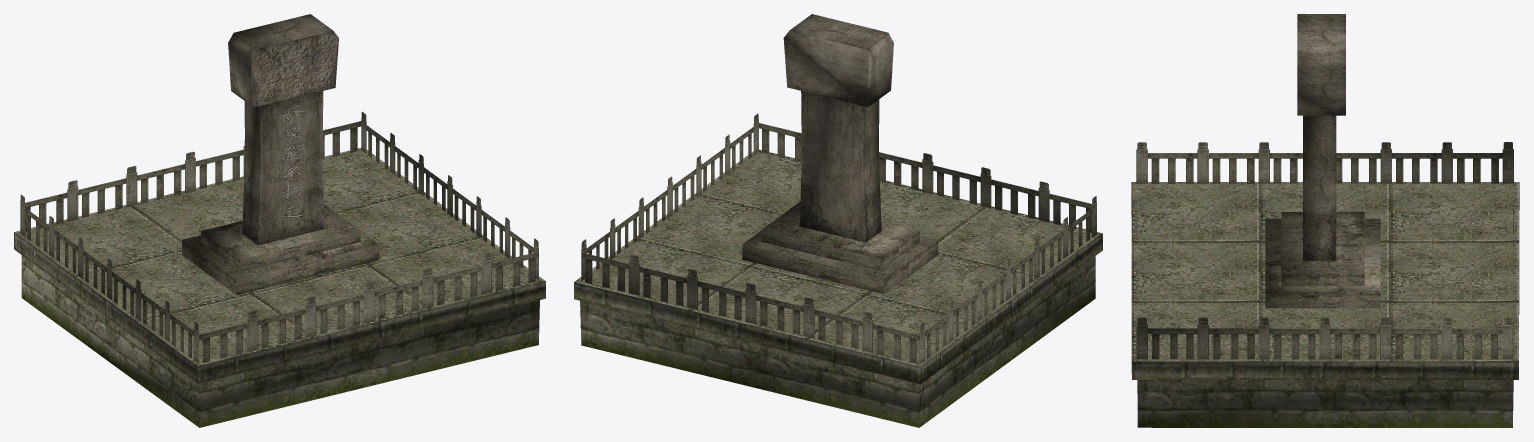
Rendered from cj_grave_tombstone01_01.glb.
3 renders of one model, left to right at view 1: azimuth 30°, elevation 25°; view 2: azimuth 150°, elevation 25°; view 3: azimuth 270°, elevation 25°, orthographic. The views are drawn at different scales.
Parts seen in each view (by area): view 1: cj_grave_tombstone01_06, cj_grave_tombstone01_05, cj_grave_tombstone01_04, cj_grave_tombstone01_02, cj_grave_tombstone01_03, cj_grave_tombstone01_01; view 2: cj_grave_tombstone01_06, cj_grave_tombstone01_05, cj_grave_tombstone01_04, cj_grave_tombstone01_02, cj_grave_tombstone01_03; view 3: cj_grave_tombstone01_06, cj_grave_tombstone01_05, cj_grave_tombstone01_04, cj_grave_tombstone01_02, cj_grave_tombstone01_03.
Boxes of the visible parts, x1,y1,x2,y2 form: cj_grave_tombstone01_06: [14, 148, 545, 366]; cj_grave_tombstone01_05: [14, 232, 545, 427]; cj_grave_tombstone01_04: [20, 111, 538, 363]; cj_grave_tombstone01_02: [228, 14, 332, 245]; cj_grave_tombstone01_03: [182, 204, 379, 294]; cj_grave_tombstone01_01: [251, 31, 338, 107]; cj_grave_tombstone01_06: [574, 149, 1102, 366]; cj_grave_tombstone01_05: [574, 233, 1102, 427]; cj_grave_tombstone01_04: [581, 113, 1096, 363]; cj_grave_tombstone01_02: [783, 14, 893, 242]; cj_grave_tombstone01_03: [742, 202, 938, 294]; cj_grave_tombstone01_06: [1131, 182, 1519, 361]; cj_grave_tombstone01_05: [1131, 192, 1519, 427]; cj_grave_tombstone01_04: [1136, 142, 1513, 359]; cj_grave_tombstone01_02: [1297, 14, 1345, 260]; cj_grave_tombstone01_03: [1265, 212, 1380, 308].
Size of the model in its own units: 5.27 by 4.19 by 4.8.
Materials: 6 (6 with a texture image).
